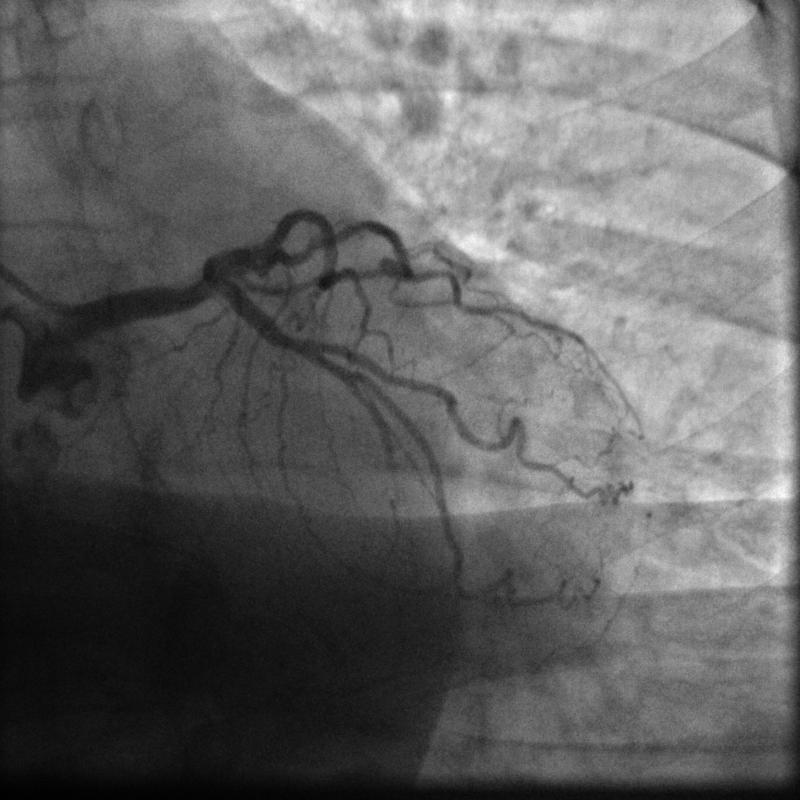Stenosis: (275, 317, 311, 368)
